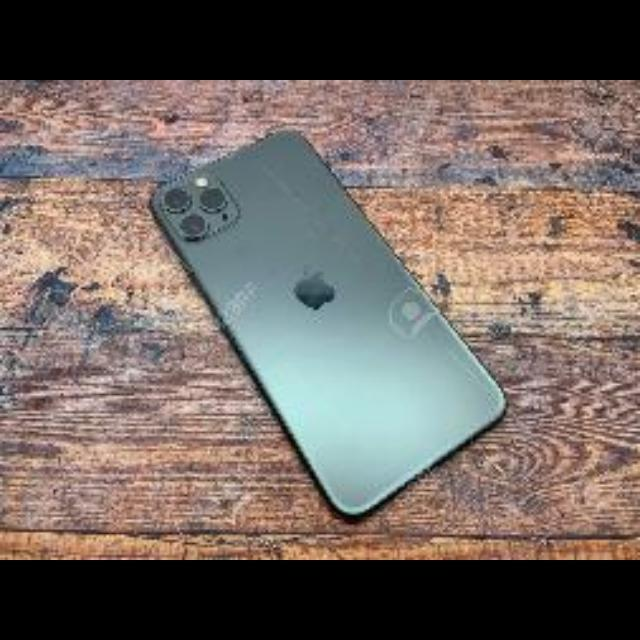PhoneUse: (150, 131, 508, 515)
